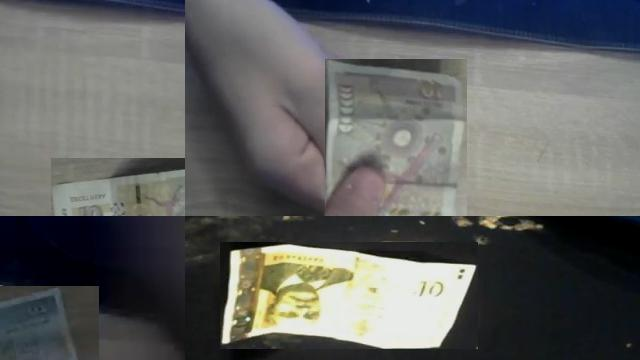10leva: (220, 242, 478, 349), (325, 59, 467, 216), (51, 166, 185, 216)
20leva: (0, 286, 80, 360)
